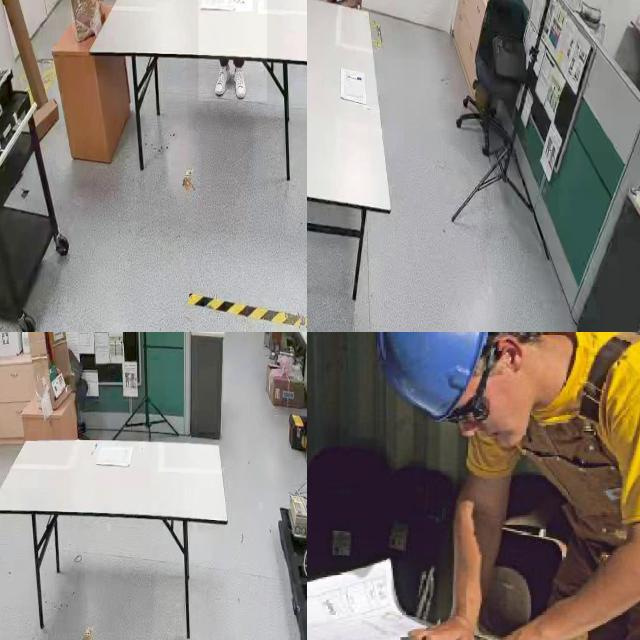No_Ear-Protection: (488, 332, 531, 378)
face_nomask: (461, 400, 531, 448)
hand_glove: (235, 0, 252, 12)
hand_noglove: (413, 614, 475, 640)
head_helmet: (379, 332, 487, 420)
person: (198, 0, 267, 101)
shoes: (213, 61, 230, 99), (232, 63, 247, 105)
